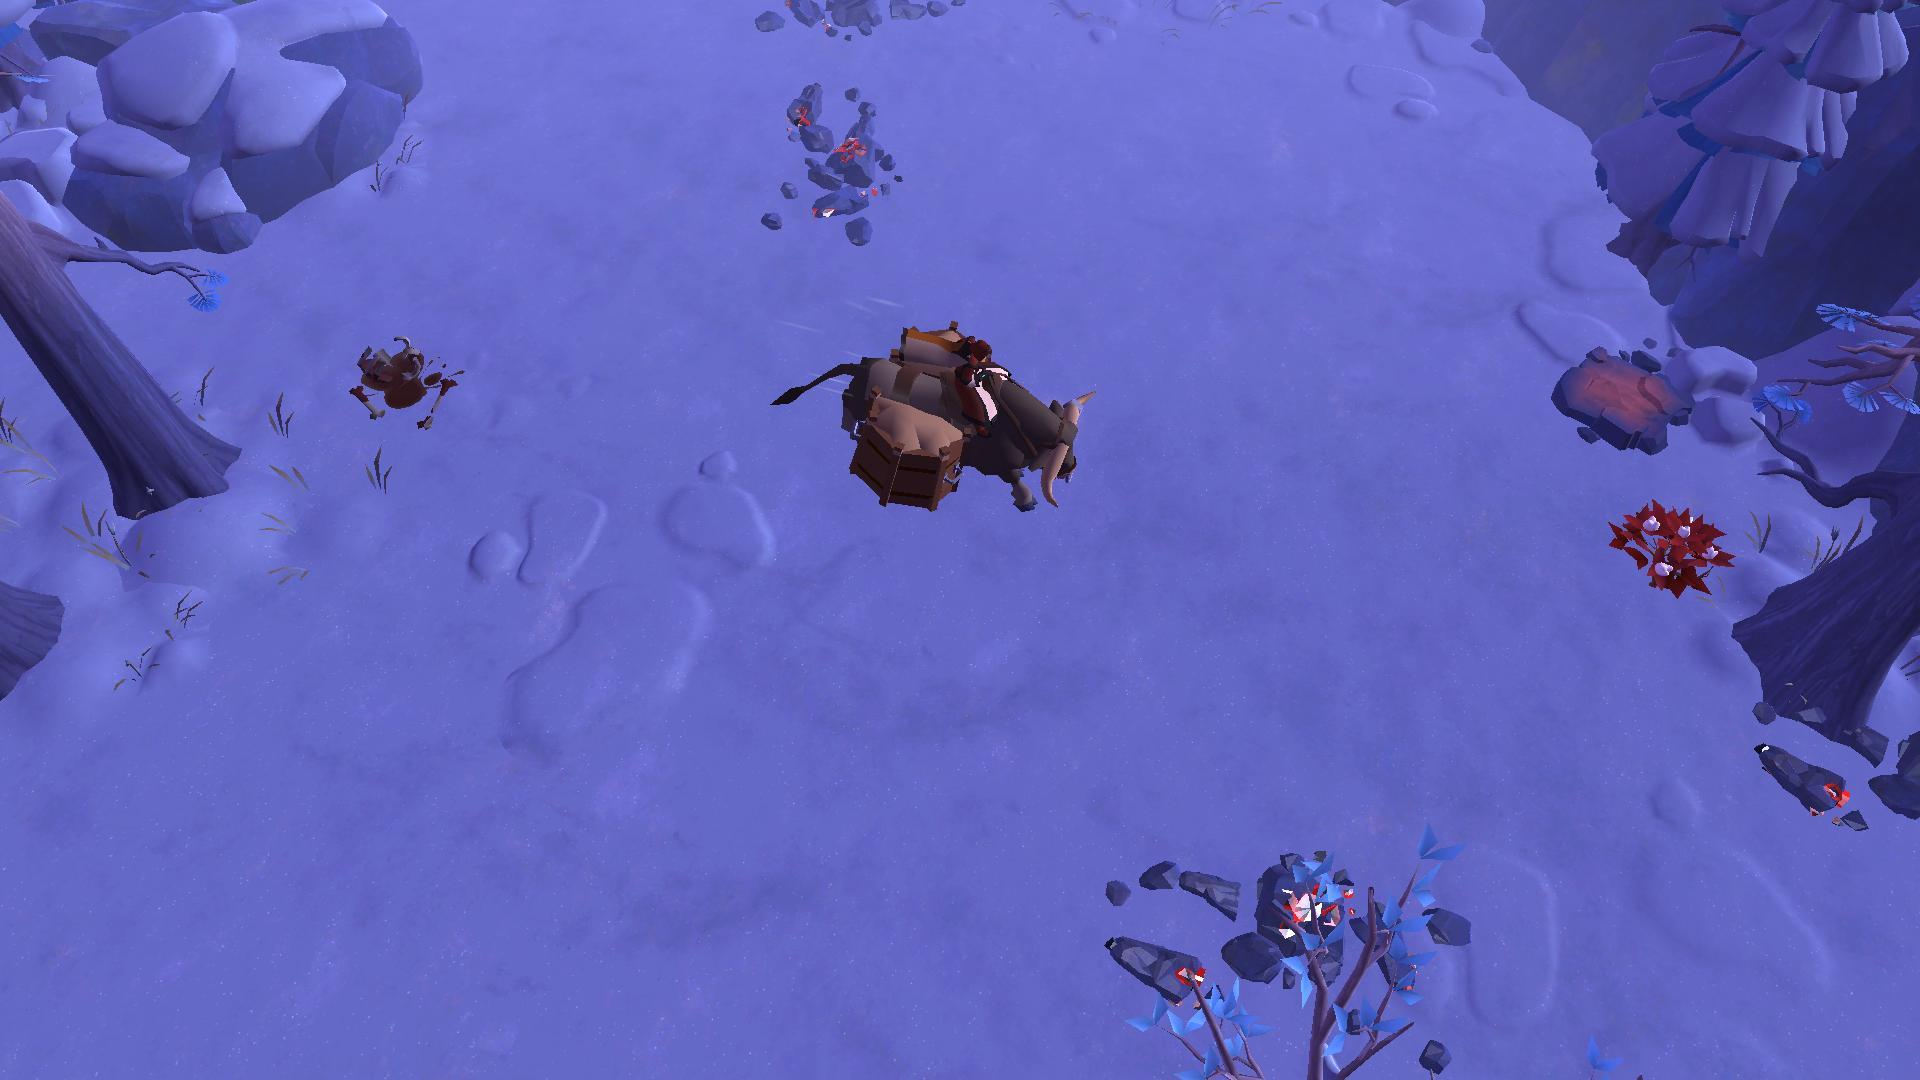fiber_t5: (1614, 491, 1733, 600)
